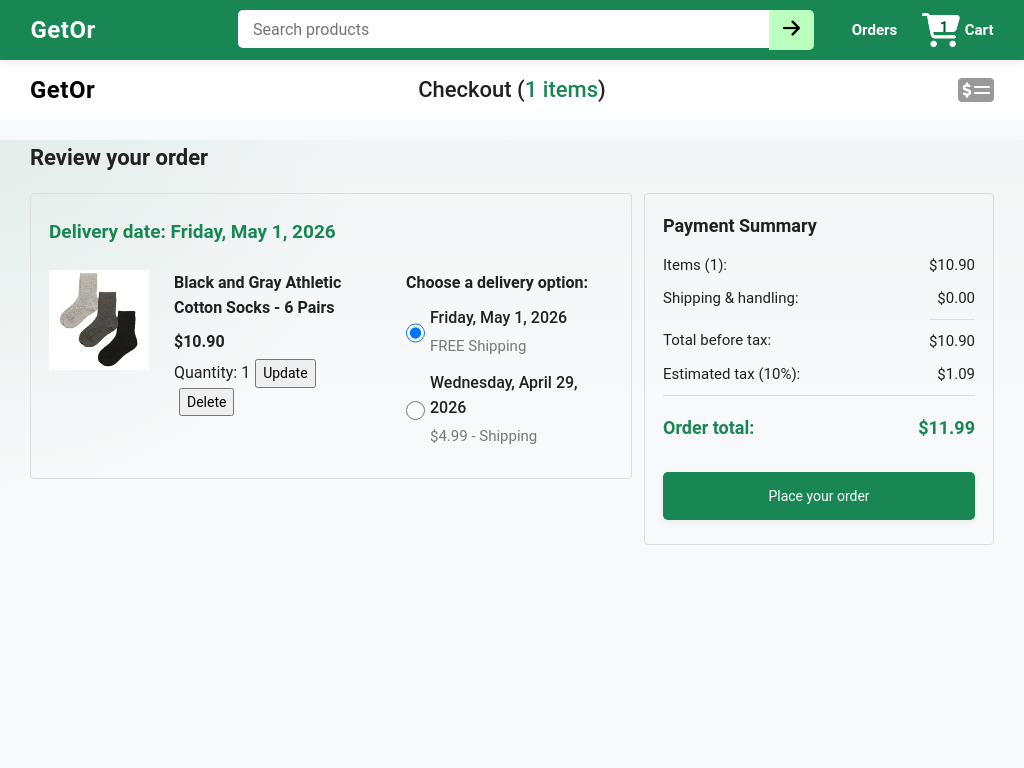
Scenario: Checkout › updates quantity from the checkout page
Expected: the text "Black and Gray Athletic Cotton Socks - 6 Pairs" is shown, top-left (174, 273), bottom-right (341, 317)
Click the button "Update" at [285, 374], box top-left (255, 359), bottom-right (316, 388)
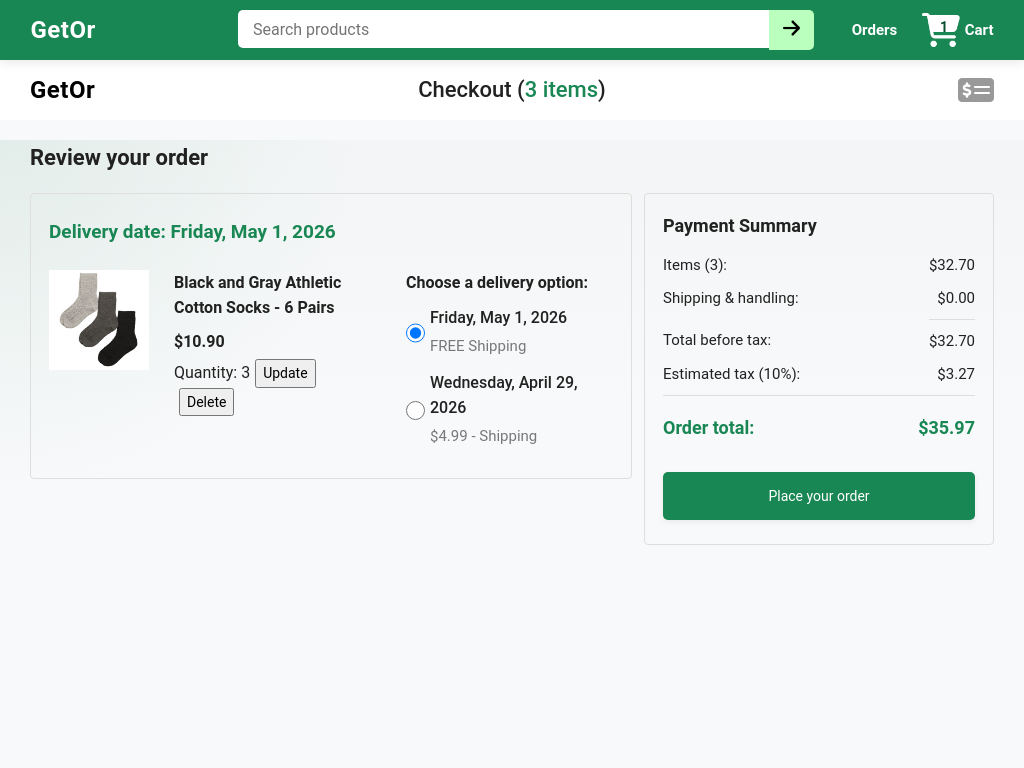
Expected: the text "Quantity:" is shown, top-left (174, 363), bottom-right (237, 382)
Now the text "3" is shown, box top-left (241, 363), bottom-right (250, 382)
